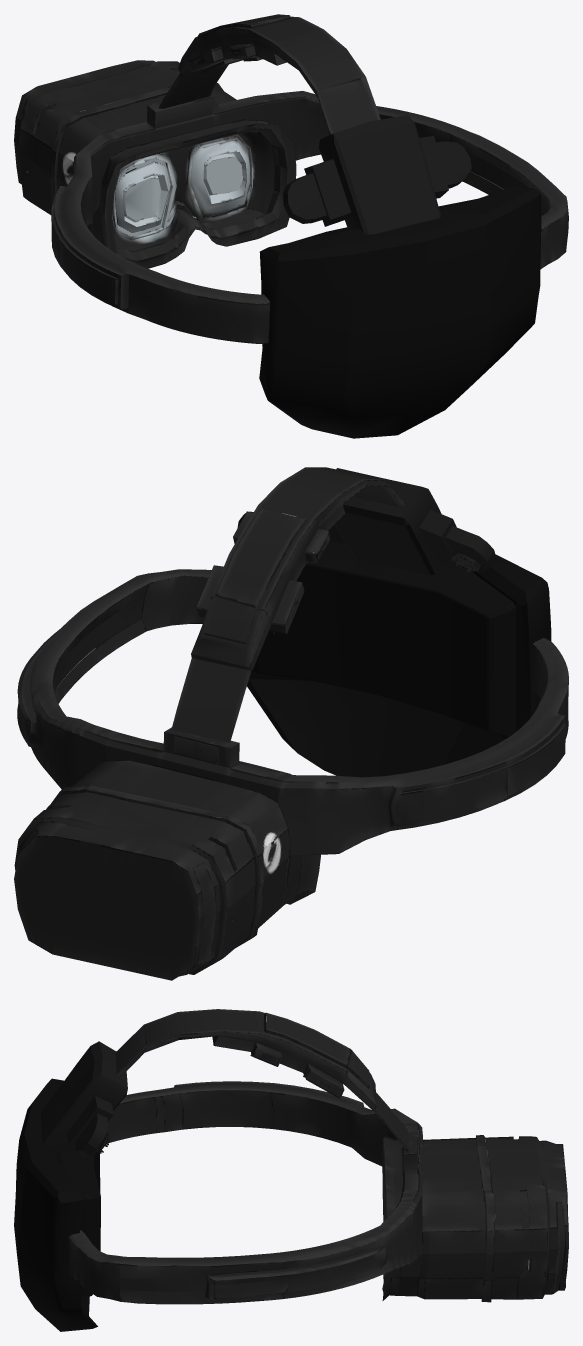
Rendered from official emergent tech.glb.
The picture shows the model from 3 angles, top to bottom: view 1: azimuth 30°, elevation 25°; view 2: azimuth 150°, elevation 25°; view 3: azimuth 270°, elevation 25°; orthographic projection. The views are drawn at different scales.
Parts seen in each view (by area): view 1: Cylinder.001, Cube, Cube.001; view 2: Cylinder.001, Cube, Cube.001; view 3: Cylinder.001, Cube, Cube.001.
Part boxes in pixels (<box>): Cylinder.001: <box>14,14,568,343</box>; Cube: <box>259,185,541,438</box>; Cube.001: <box>283,115,471,234</box>; Cylinder.001: <box>14,467,568,980</box>; Cube: <box>237,511,551,777</box>; Cube.001: <box>328,468,495,575</box>; Cylinder.001: <box>68,1009,568,1304</box>; Cube: <box>14,1078,100,1331</box>; Cube.001: <box>41,1041,127,1157</box>.
Size of the model in its own units: 1.3 by 0.9438 by 1.59.
Materials: 3 (1 with a texture image).
